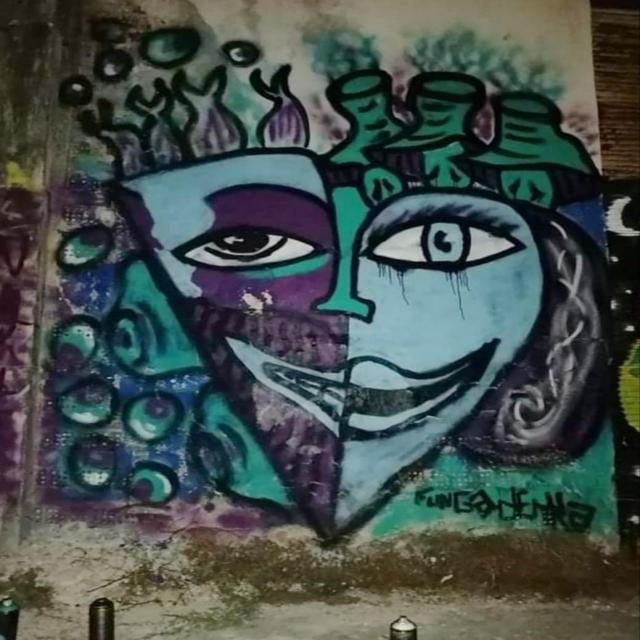-: (56, 43, 628, 540)
